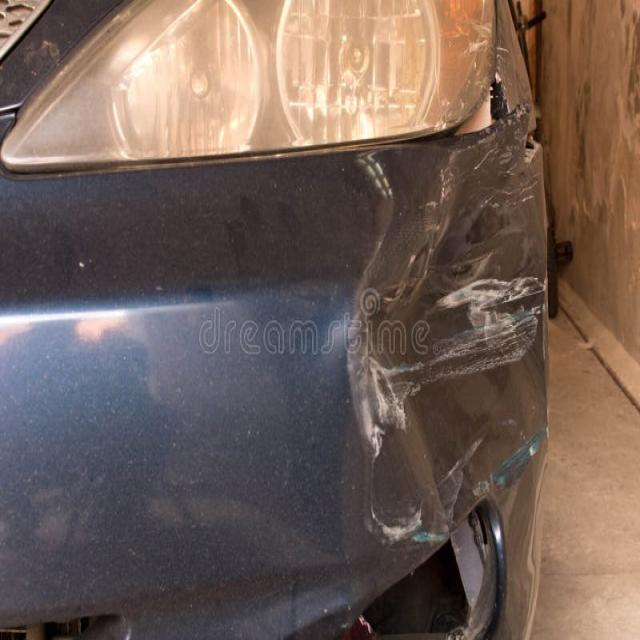dent: (332, 102, 549, 561)
misalignment: (407, 70, 510, 143)
scratch: (343, 104, 548, 562)
